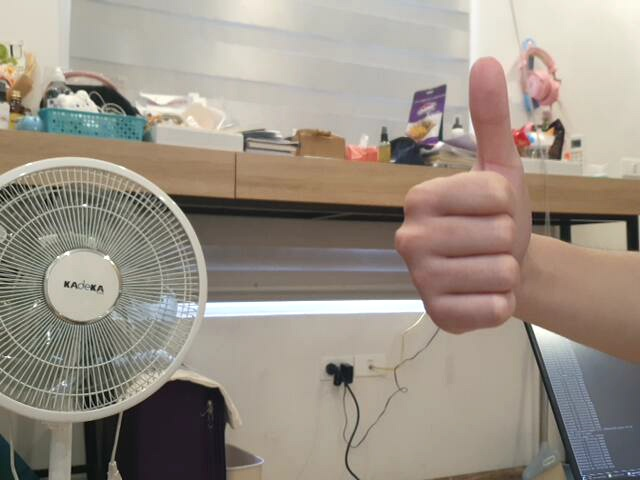ThumbsUp: (391, 53, 536, 338)
